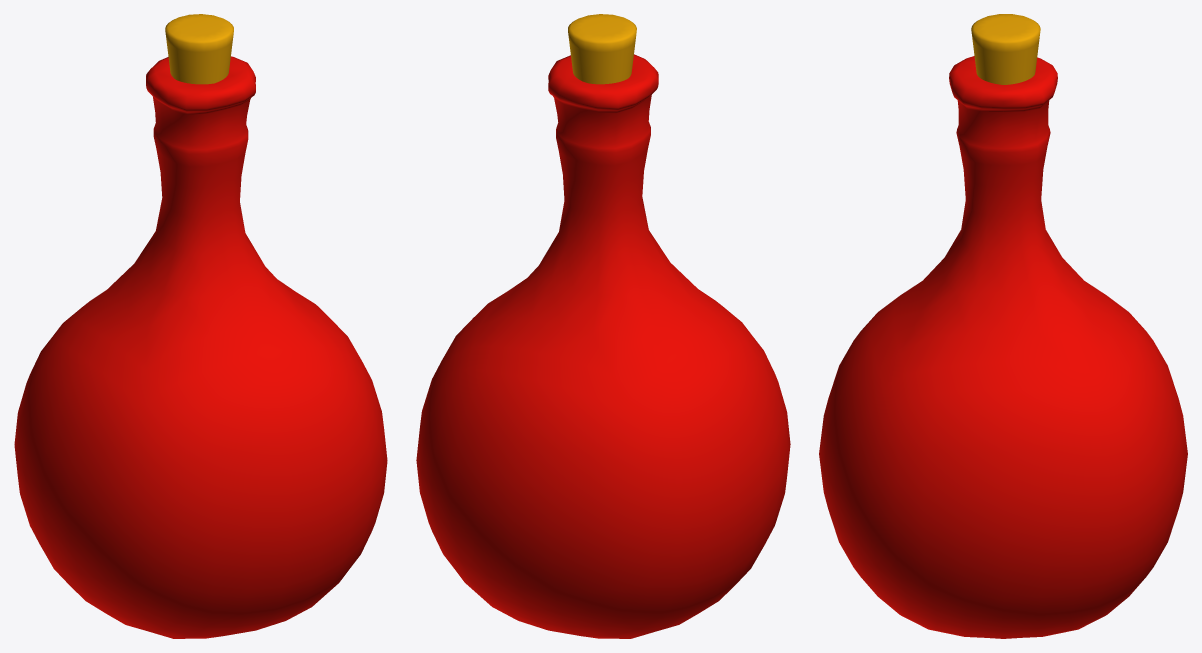
Rendered from PotionA.fbx.
3 renders of one model, left to right at view 1: azimuth 30°, elevation 25°; view 2: azimuth 150°, elevation 25°; view 3: azimuth 270°, elevation 25°, orthographic.
Parts seen in each view (by area): view 1: PotionA; view 2: PotionA; view 3: PotionA.
Part boxes in pixels (box(x1,y1,x2,y2)): PotionA: box(14, 14, 387, 638); PotionA: box(416, 14, 790, 638); PotionA: box(819, 14, 1187, 638).
Bounding box in the file's own units: 18.47 × 32.31 × 18.47.
